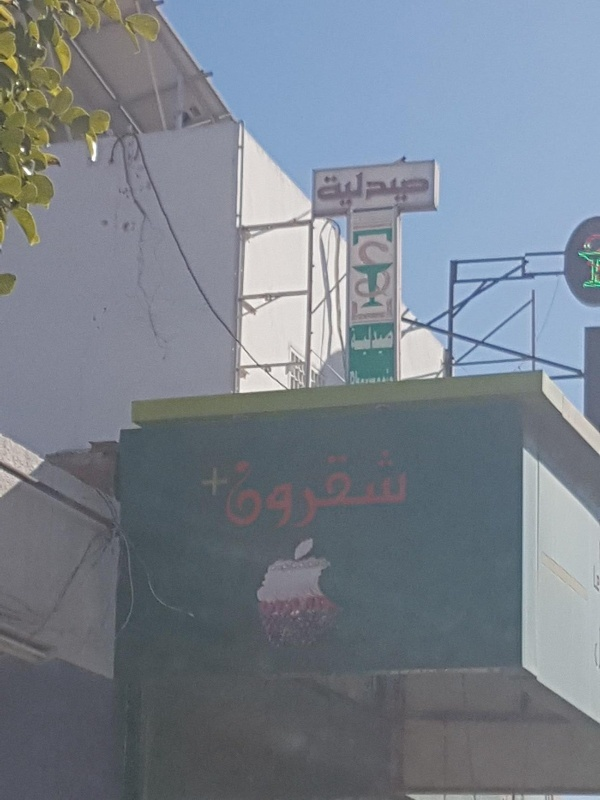text: (241, 448, 256, 531), (257, 448, 272, 531), (273, 448, 288, 531), (289, 448, 304, 531), (305, 448, 320, 531), (321, 448, 336, 531), (337, 448, 352, 531), (353, 448, 368, 531), (369, 448, 384, 531), (385, 448, 400, 531), (229, 448, 240, 531), (401, 448, 408, 531), (321, 171, 336, 209), (337, 171, 352, 209), (353, 171, 368, 209), (369, 171, 384, 209), (385, 171, 400, 209), (401, 171, 416, 209), (417, 171, 431, 209), (353, 325, 368, 357), (369, 325, 384, 357), (385, 325, 393, 357), (353, 368, 368, 385), (369, 368, 384, 385), (385, 368, 395, 385), (317, 171, 320, 209), (350, 325, 352, 357), (350, 368, 352, 385)
